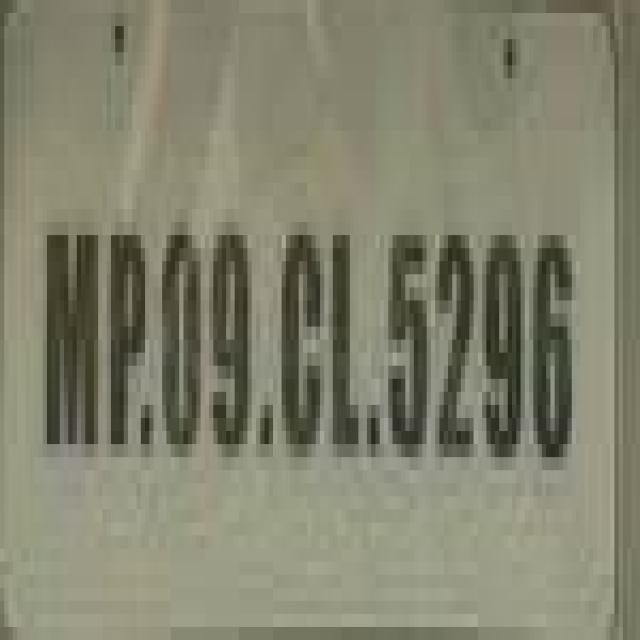license_plate: (0, 39, 610, 588)
